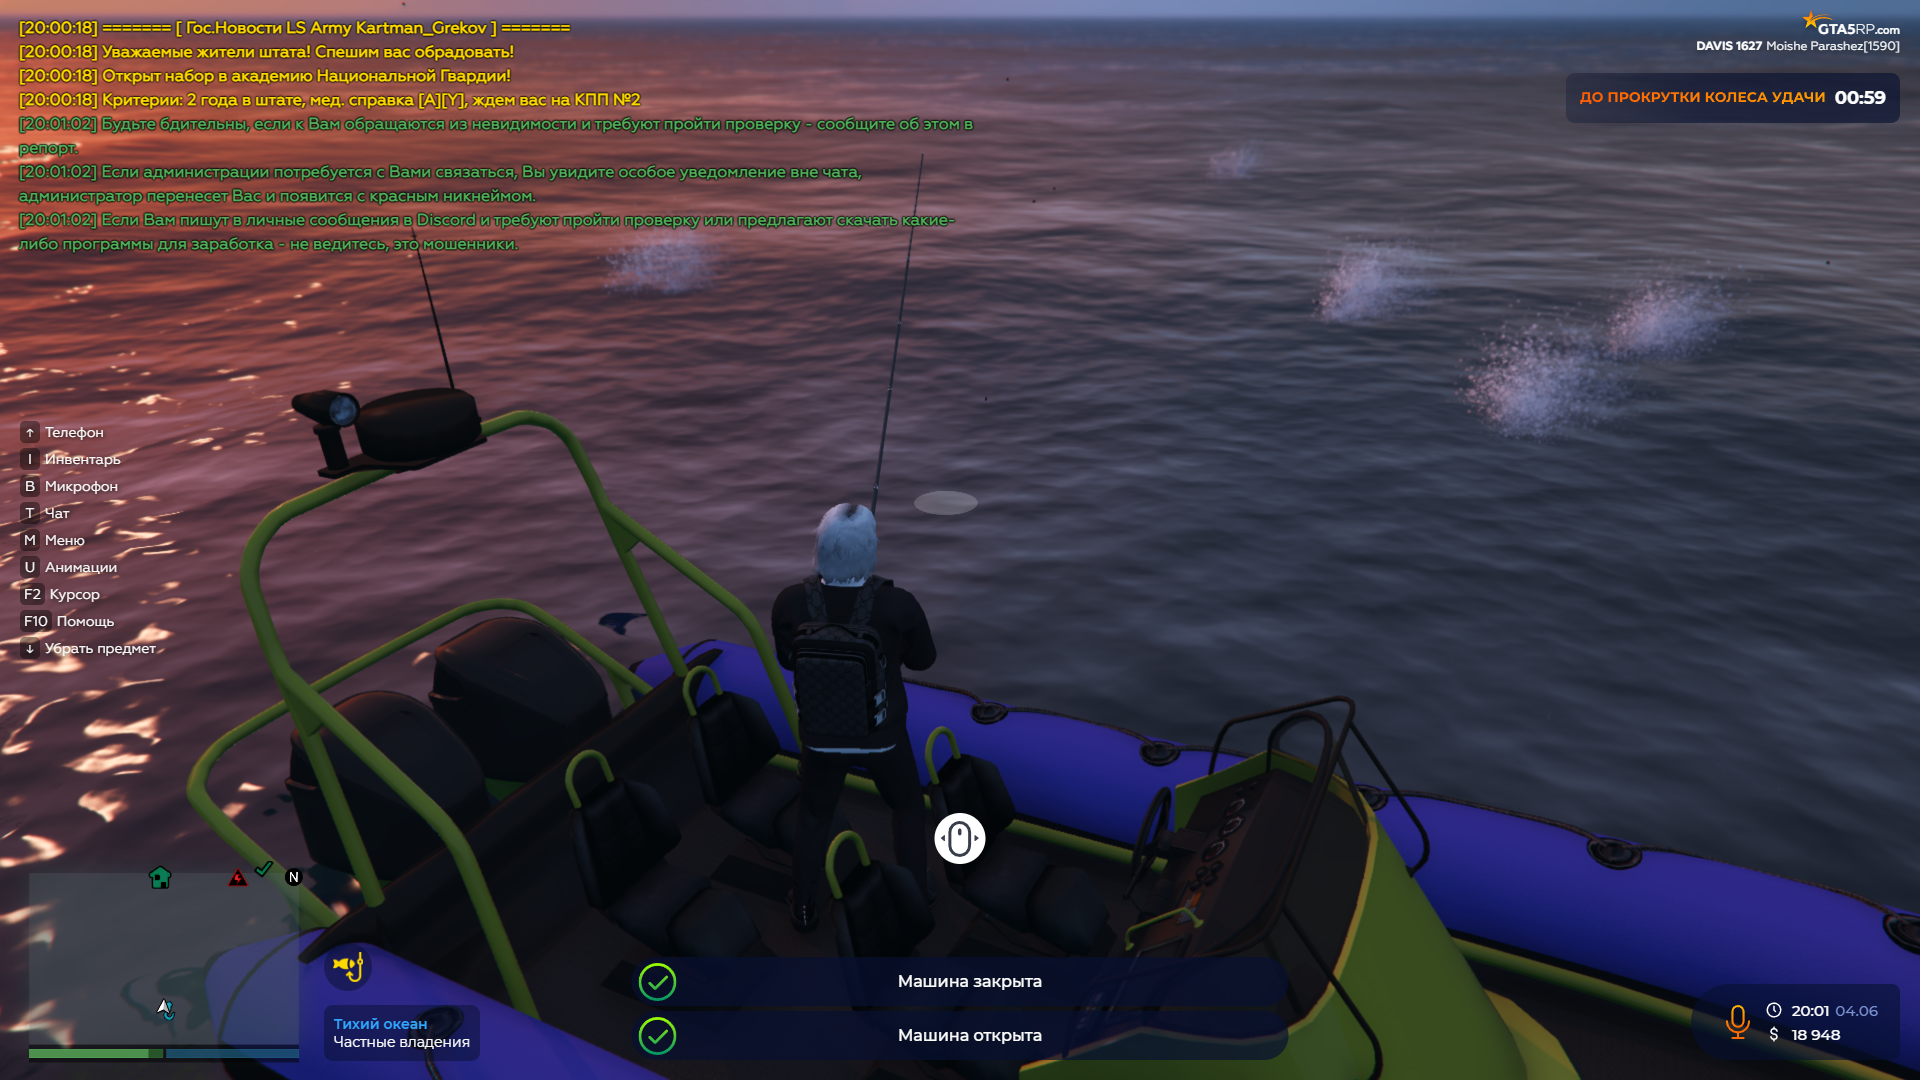circle: (915, 489, 978, 518)
